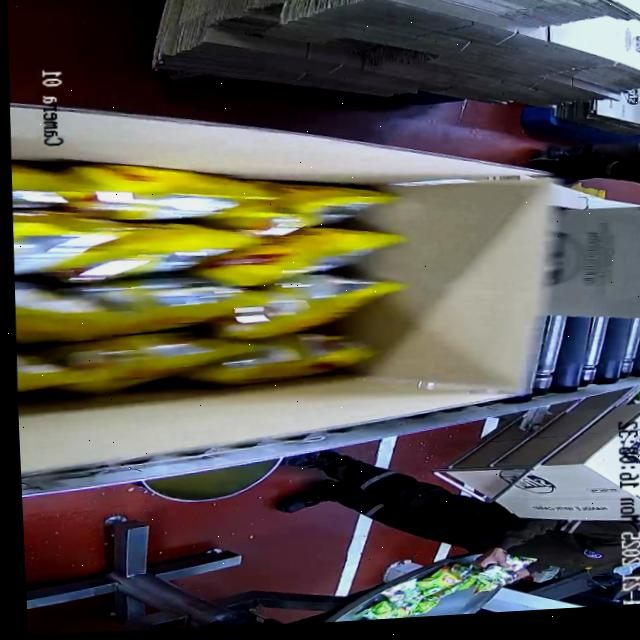SALTED: (6, 123, 414, 403)
